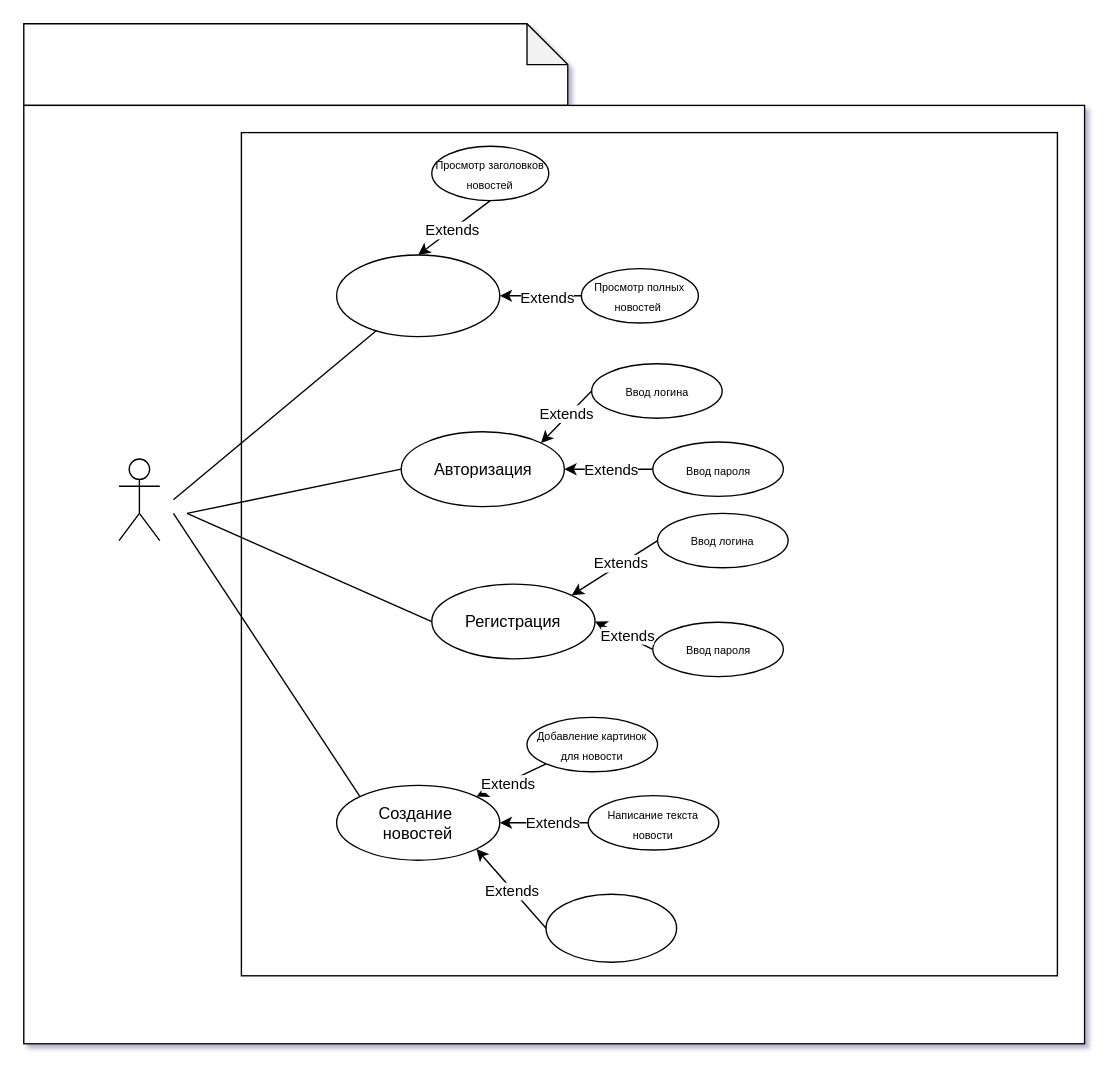
This 1117x1076 diagram has some shape labels left out. The shapes that lost their labels are listed below. From the top down, each one's centre as x and y in pixels, then its label:
At (x=295, y=63): "Диаграмма процессов - Мобильное приложение об новостях".
At (x=417, y=295): "Просмотр новостей".
At (x=139, y=499): "Пользователь".
At (x=611, y=927): "Редактирование написанных новостей".
